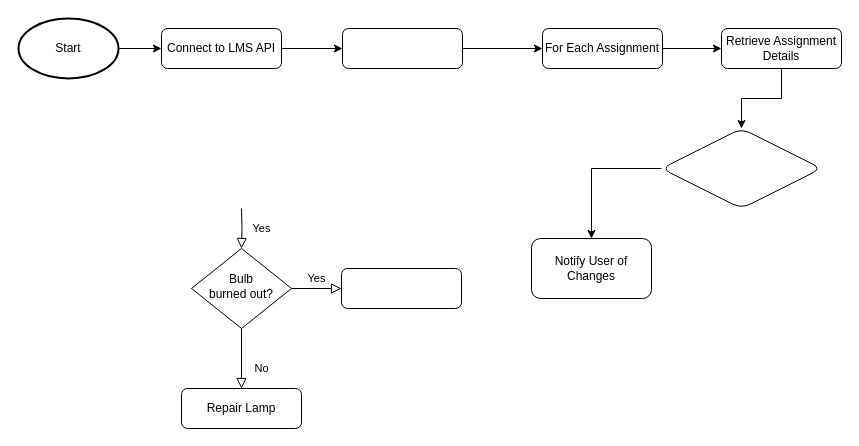
This 859x446 diagram has some shape labels left out. The centre of each missing label's shape, as x and y in pixels:
"Fetch Course Assignments" goes at pixel 402 48.
"Has Due Date Changed?" goes at pixel 741 168.
"Replace Bulb" goes at pixel 401 288.
